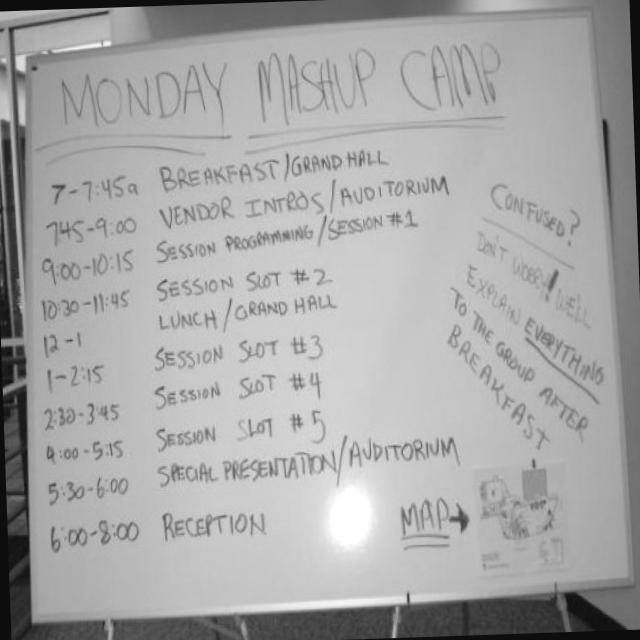White-board: (30, 15, 633, 626)
